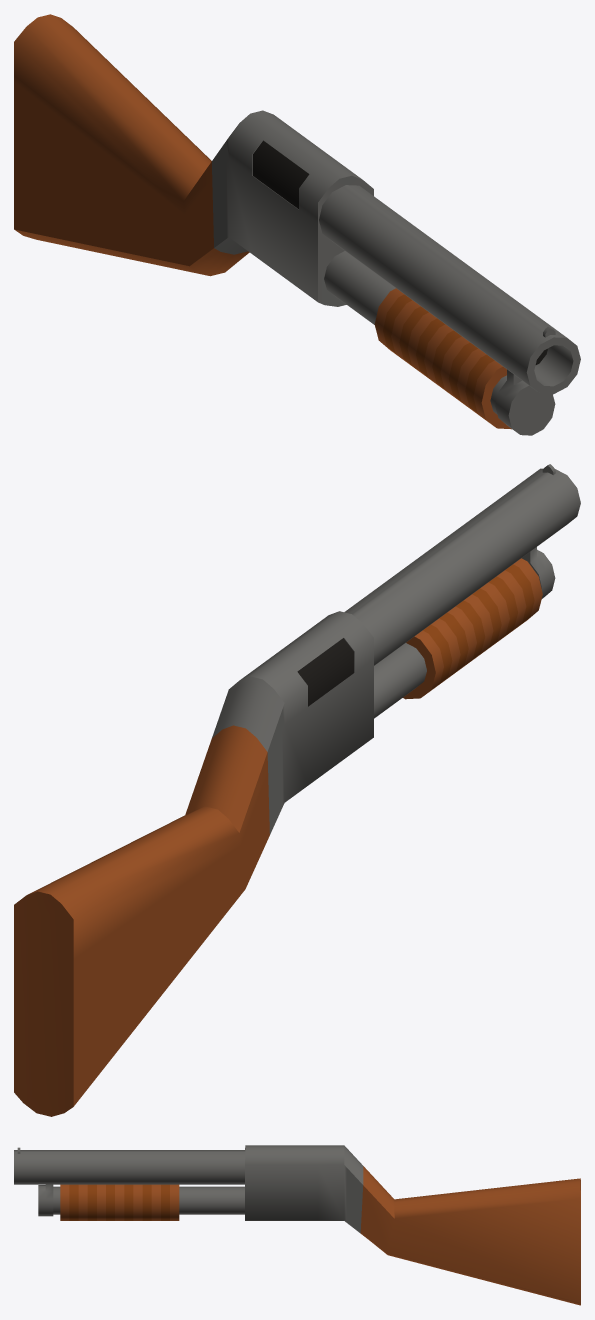
The model's file is Toon Shotgun.fbx.
3 renders of one model, top to bottom at view 1: azimuth 30°, elevation 25°; view 2: azimuth 150°, elevation 25°; view 3: azimuth 270°, elevation 25°, orthographic. The views are drawn at different scales.
Parts seen in each view (by area): view 1: Cylinder.001; view 2: Cylinder.001; view 3: Cylinder.001.
Boxes of the visible parts, left/top/right/bottom form: Cylinder.001: left=14, top=14, right=580, bottom=435; Cylinder.001: left=14, top=464, right=580, bottom=1116; Cylinder.001: left=14, top=1145, right=580, bottom=1305.
Bounding box in the file's own units: 128 × 564 × 1851.
